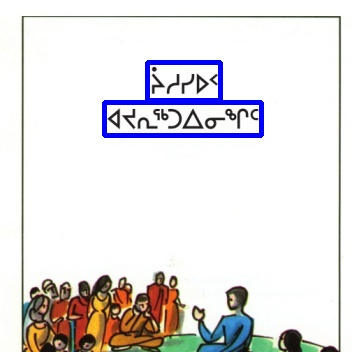inuktitut: (104, 102, 261, 135), (147, 62, 220, 100)
